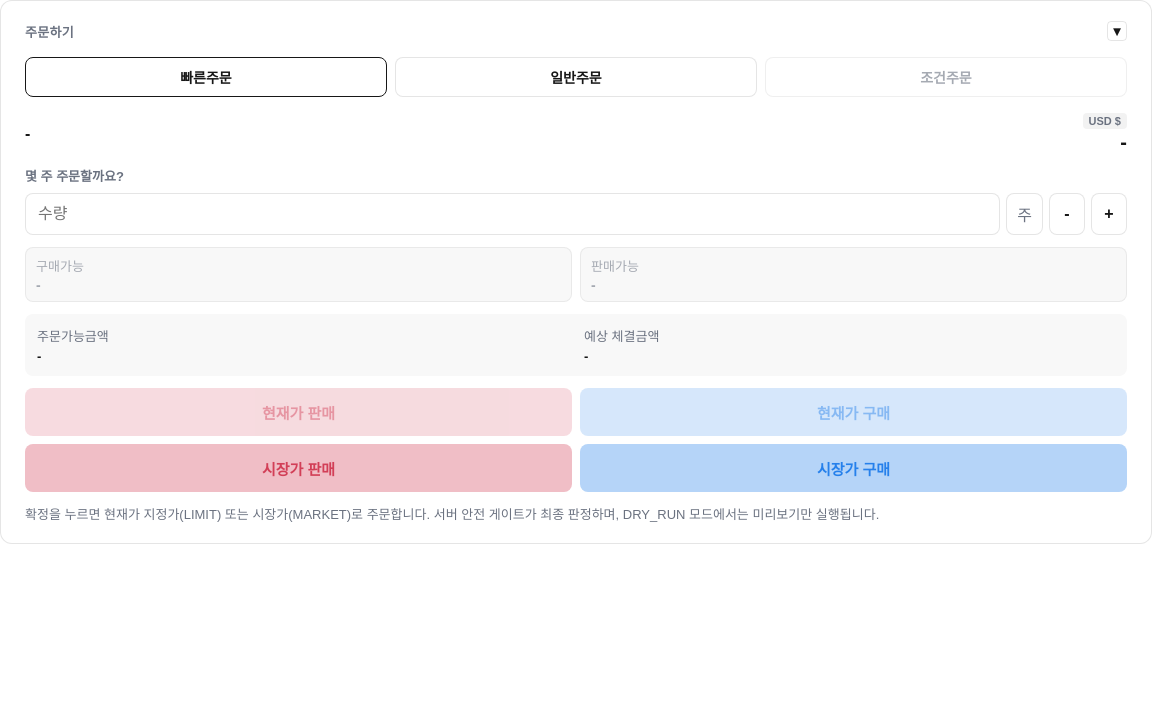
OrderForm — general order › shows the price input for LIMIT and hides it for MARKET
This screenshot has width=1152, height=720.
Click the tab "일반주문" at (576,77), box [395, 57, 757, 97]
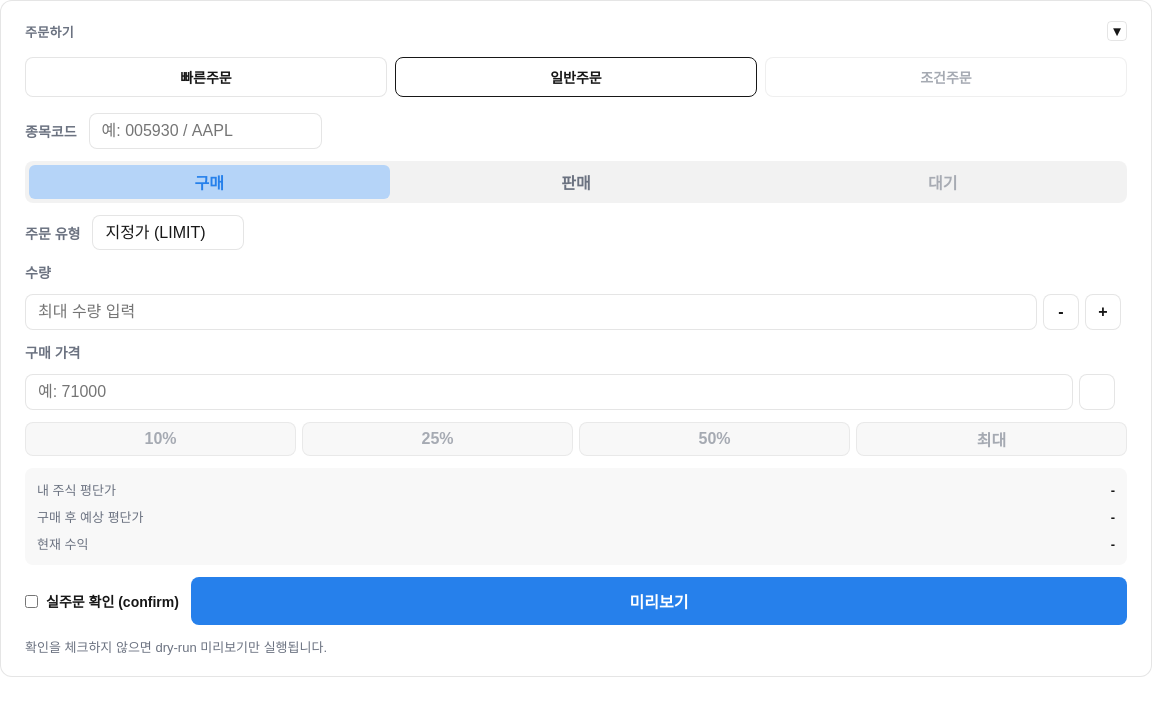
Expected: the field labelled "구매 가격" is shown, [25, 374, 1073, 410]
Select "시장가 (MARKET)" in the dropdown labelled "주문 유형" at (168,232), box [92, 215, 244, 250]
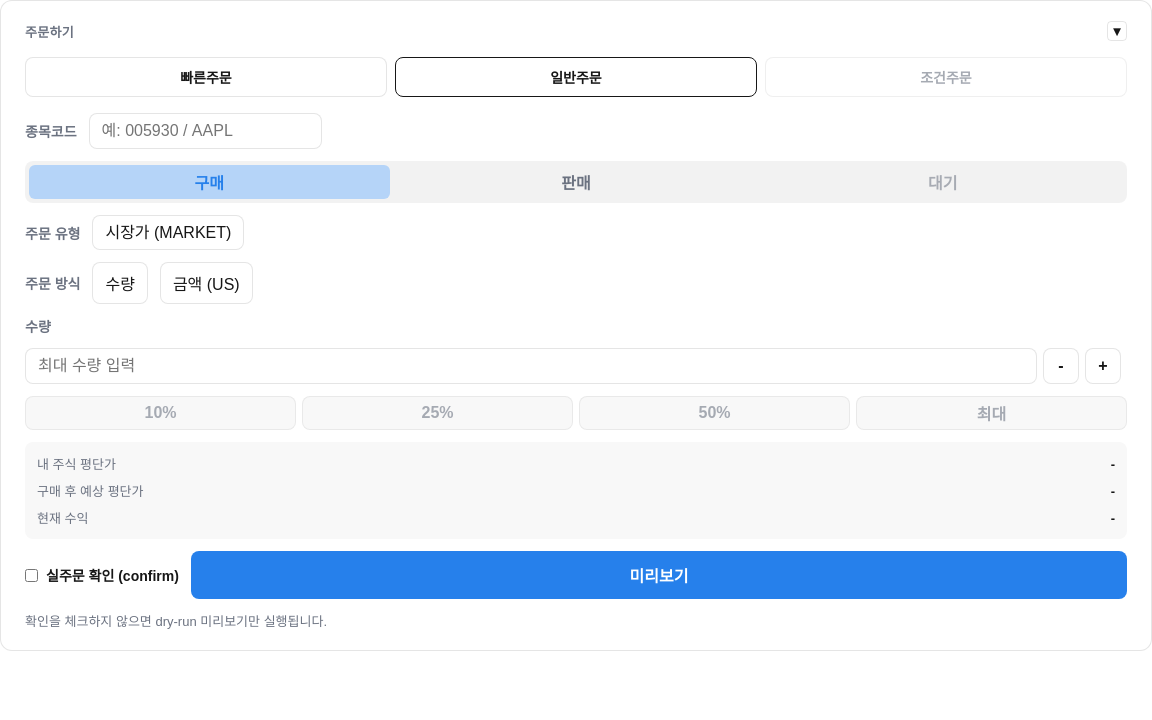
Expected: the label labelled "구매 가격" is gone
